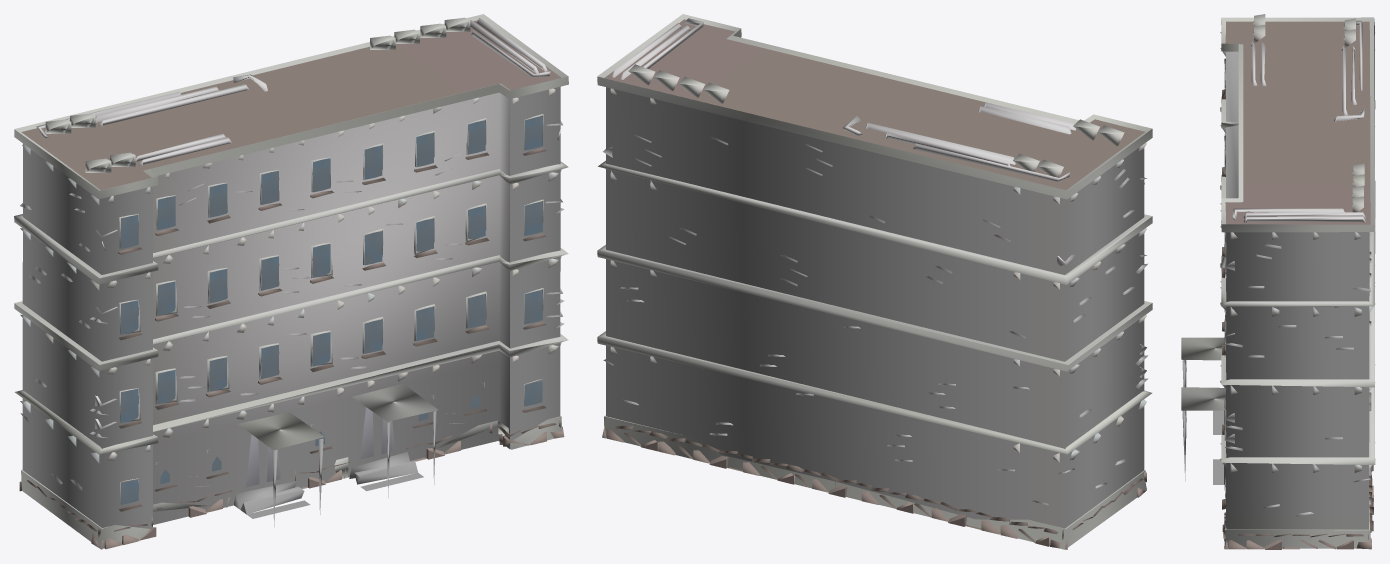
File: motel-hotel.glb
3 views of the same model, side by side, from view 1: azimuth 30°, elevation 25°; view 2: azimuth 150°, elevation 25°; view 3: azimuth 270°, elevation 25° (orthographic). The views are drawn at different scales.
Visible parts, largest first — view 1: 4Story_Wide_2Doors; view 2: 4Story_Wide_2Doors; view 3: 4Story_Wide_2Doors.
Part boxes in pixels (<box>): 4Story_Wide_2Doors: <box>14,14,568,549</box>; 4Story_Wide_2Doors: <box>597,14,1152,549</box>; 4Story_Wide_2Doors: <box>1181,14,1375,549</box>.
Bounding box in the file's own units: 1 × 0.7519 × 0.3945.
Materials: 1 (1 with a texture image).
